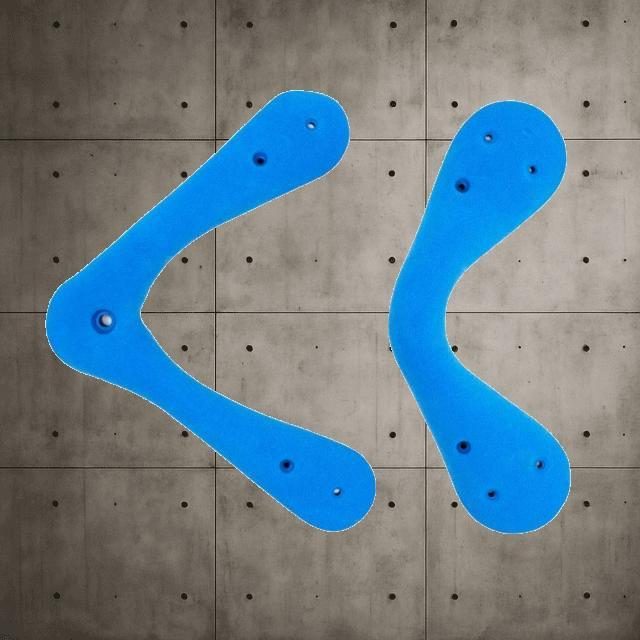Jug: (45, 88, 377, 532), (387, 99, 571, 534)
